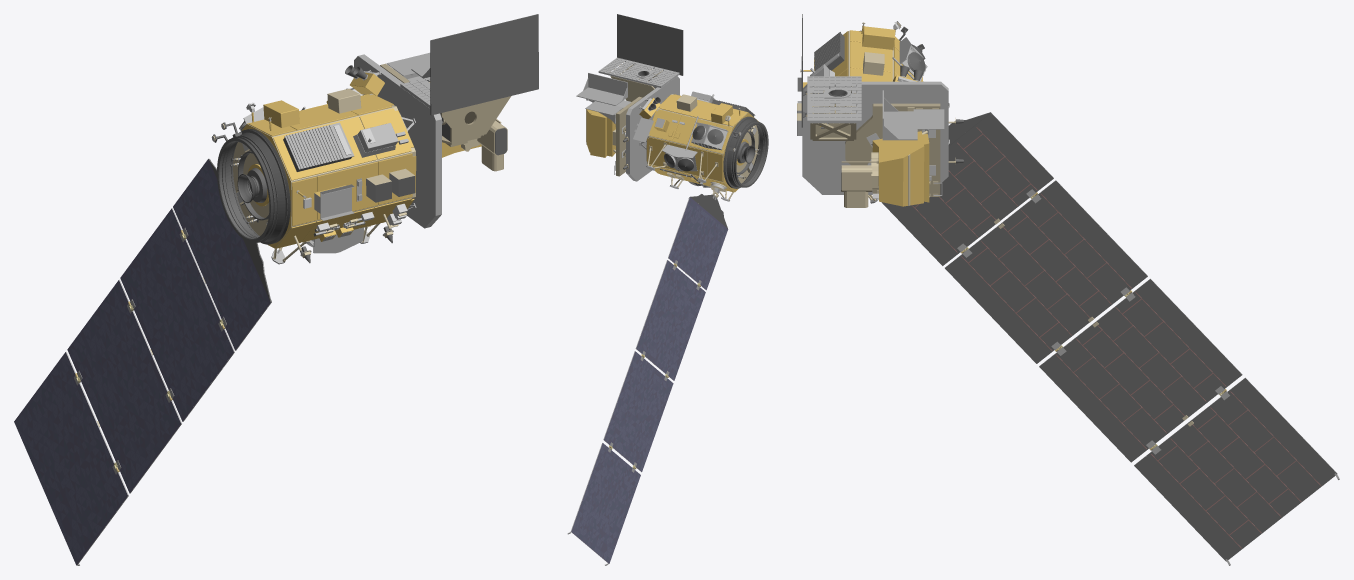
The model's file is landsat8.gltf.
The picture shows the model from 3 angles, left to right: view 1: azimuth 30°, elevation 25°; view 2: azimuth 150°, elevation 25°; view 3: azimuth 270°, elevation 25°; orthographic projection. The views are drawn at different scales.
Visible parts, largest first — view 1: Layer_0; view 2: Layer_0; view 3: Layer_0.
Boxes of the visible parts, bbox=[...] form: Layer_0: bbox=[14, 14, 538, 565]; Layer_0: bbox=[567, 14, 768, 565]; Layer_0: bbox=[797, 14, 1339, 565].
Size of the model in its own units: 0.999 by 2.46 by 2.02.
